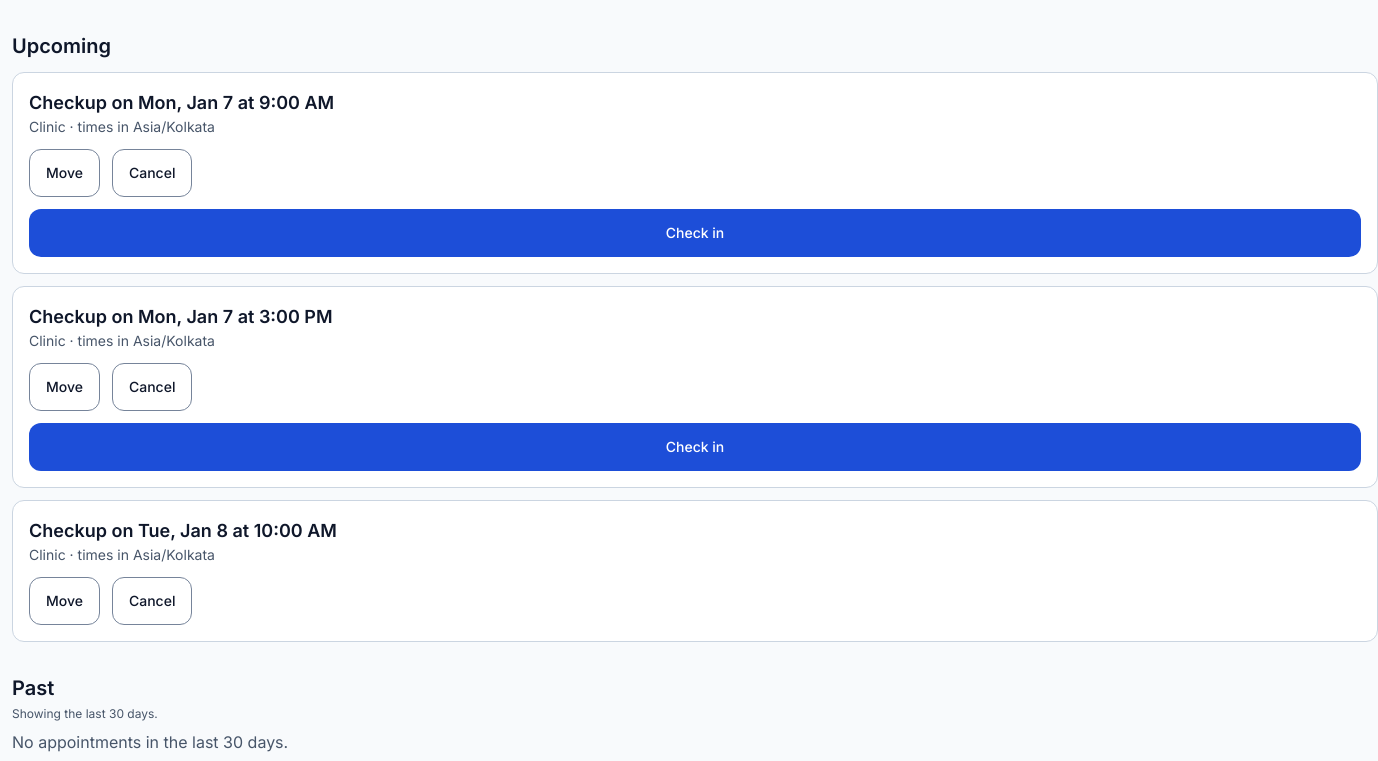
Scenario: Check in › too_late: the server's reason in words (never its text, never a clock time)
Click the button named "Check in Checkup on Mon, Jan 7 at 3:00 PM". click: {"x": 695, "y": 447}
box: [29, 423, 1361, 471]
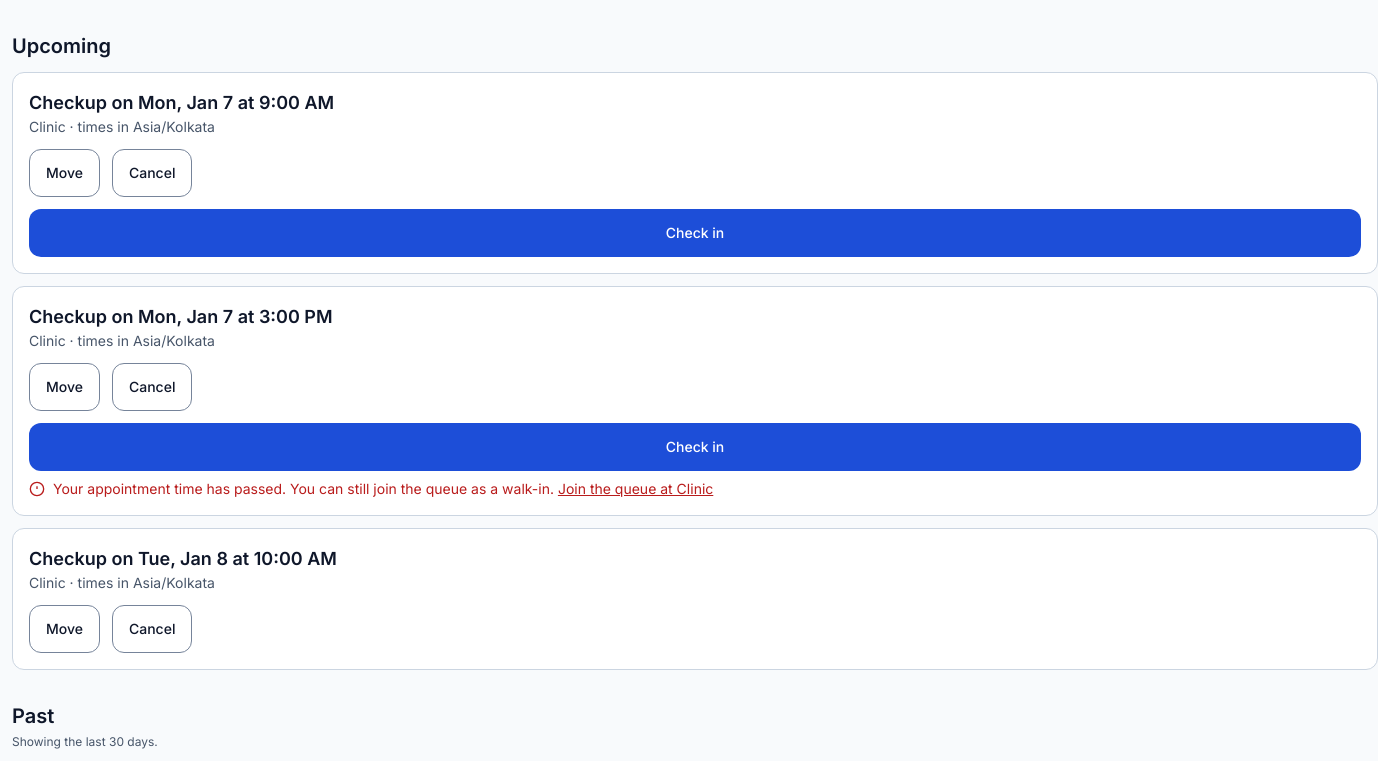
Check: the message shows "Your appointment time has passed. You can still join the queue as a walk-in.", box [53, 480, 554, 497]
